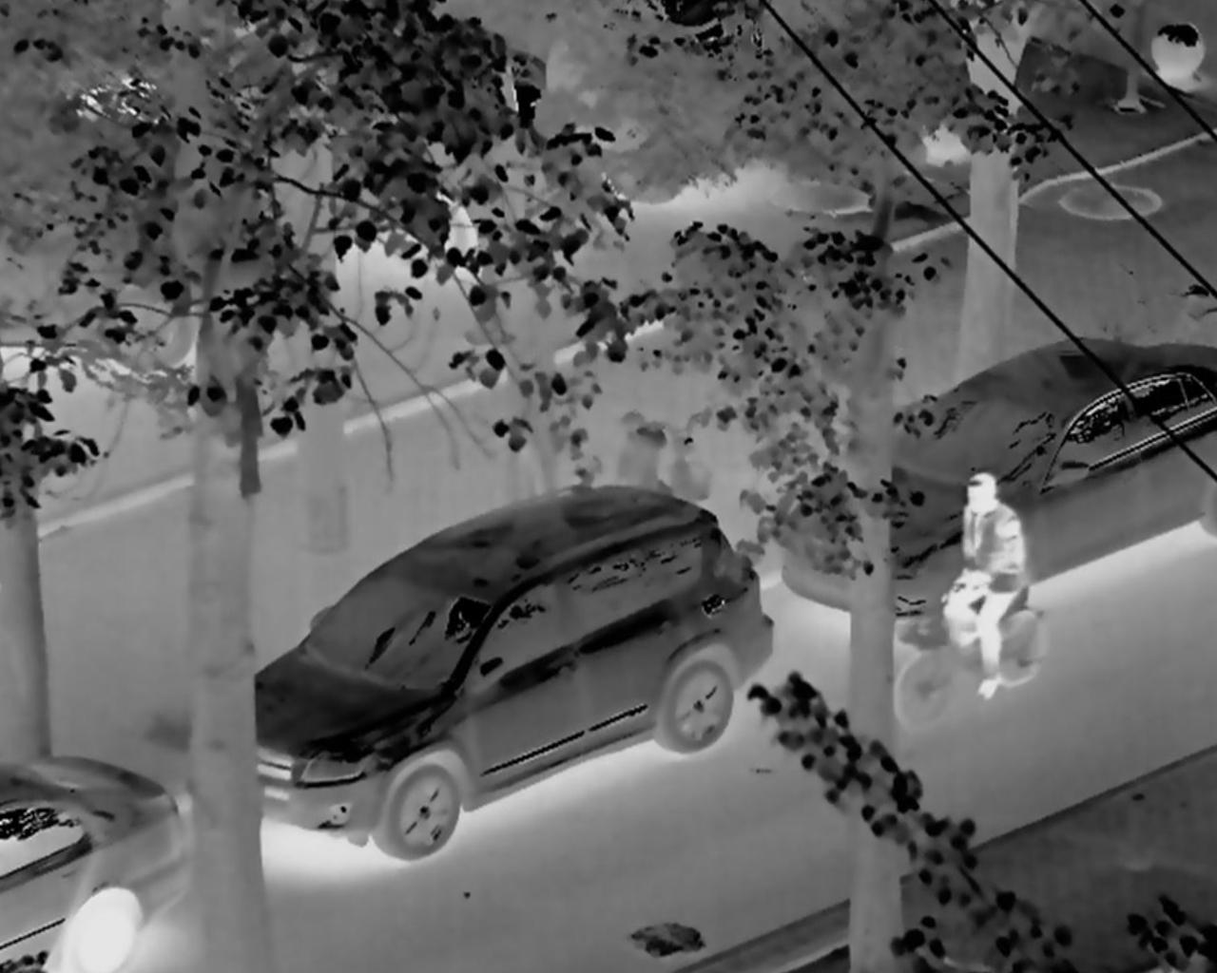person: (943, 470, 1033, 704)
